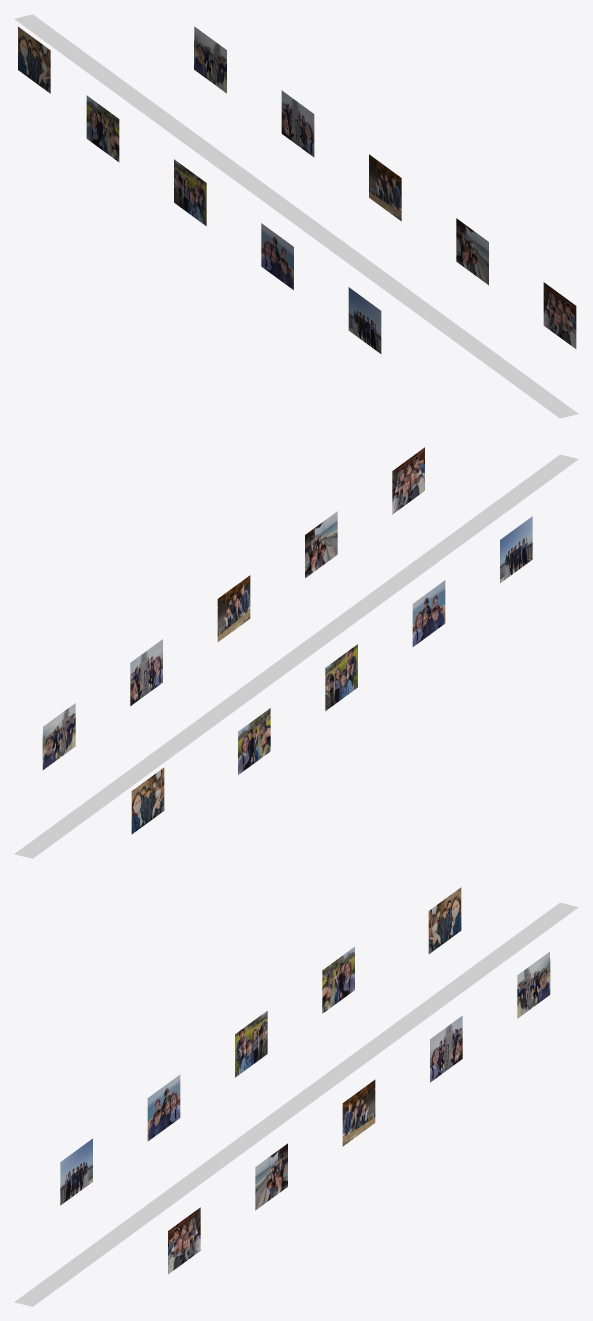
The model's file is Ome-Test.glb.
3 views of the same model, one above another, from view 1: azimuth 30°, elevation 25°; view 2: azimuth 150°, elevation 25°; view 3: azimuth 330°, elevation 25° (orthographic).
Visible parts, largest first — view 1: 平面, PhotoLeft.003, PhotoRight.003, PhotoLeft, PhotoRight, PhotoRight.002, PhotoLeft.001, PhotoLeft.004, PhotoRight.001, PhotoLeft.002, PhotoRight.004; view 2: 平面, PhotoLeft.004, PhotoLeft.001, PhotoRight.002, PhotoRight.004, PhotoLeft.002, PhotoRight.001, PhotoLeft, PhotoLeft.003, PhotoRight, PhotoRight.003; view 3: 平面, PhotoLeft.001, PhotoRight.002, PhotoLeft.004, PhotoRight.004, PhotoRight, PhotoLeft, PhotoLeft.002, PhotoRight.001, PhotoRight.003, PhotoLeft.003.
Boxes of the visible parts, x1=… form: 平面: x1=14, y1=14, x2=578, y2=418; PhotoLeft.003: x1=86, y1=95, x2=119, y2=162; PhotoRight.003: x1=281, y1=90, x2=314, y2=157; PhotoLeft: x1=348, y1=287, x2=381, y2=353; PhotoRight: x1=543, y1=282, x2=576, y2=348; PhotoRight.002: x1=369, y1=154, x2=401, y2=221; PhotoLeft.001: x1=261, y1=223, x2=293, y2=289; PhotoLeft.004: x1=18, y1=26, x2=50, y2=93; PhotoRight.001: x1=456, y1=218, x2=488, y2=285; PhotoLeft.002: x1=174, y1=159, x2=206, y2=226; PhotoRight.004: x1=194, y1=26, x2=226, y2=93; 平面: x1=14, y1=454, x2=578, y2=858; PhotoLeft.004: x1=131, y1=767, x2=164, y2=834; PhotoLeft.001: x1=412, y1=580, x2=445, y2=646; PhotoRight.002: x1=217, y1=575, x2=250, y2=641; PhotoRight.004: x1=42, y1=703, x2=75, y2=770; PhotoLeft.002: x1=325, y1=644, x2=357, y2=710; PhotoRight.001: x1=305, y1=511, x2=337, y2=578; PhotoLeft: x1=500, y1=516, x2=532, y2=583; PhotoLeft.003: x1=238, y1=708, x2=270, y2=774; PhotoRight: x1=392, y1=447, x2=424, y2=514; PhotoRight.003: x1=130, y1=639, x2=162, y2=705; 平面: x1=14, y1=902, x2=578, y2=1306; PhotoLeft.001: x1=147, y1=1074, x2=180, y2=1141; PhotoRight.002: x1=342, y1=1079, x2=375, y2=1146; PhotoLeft.004: x1=428, y1=887, x2=461, y2=953; PhotoRight.004: x1=517, y1=952, x2=550, y2=1018; PhotoRight: x1=168, y1=1207, x2=200, y2=1274; PhotoLeft: x1=60, y1=1138, x2=92, y2=1205; PhotoLeft.002: x1=235, y1=1010, x2=267, y2=1077; PhotoRight.001: x1=255, y1=1143, x2=287, y2=1210; PhotoRight.003: x1=430, y1=1015, x2=462, y2=1082; PhotoLeft.003: x1=322, y1=947, x2=354, y2=1013.
Bounding box in the file's own units: 16 × 4.4 × 100.
10 materials, 10 textured.
